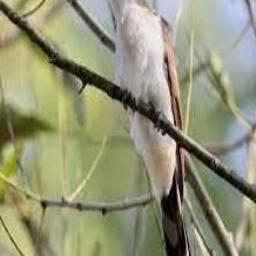Cuckoo: (90, 0, 201, 256)
